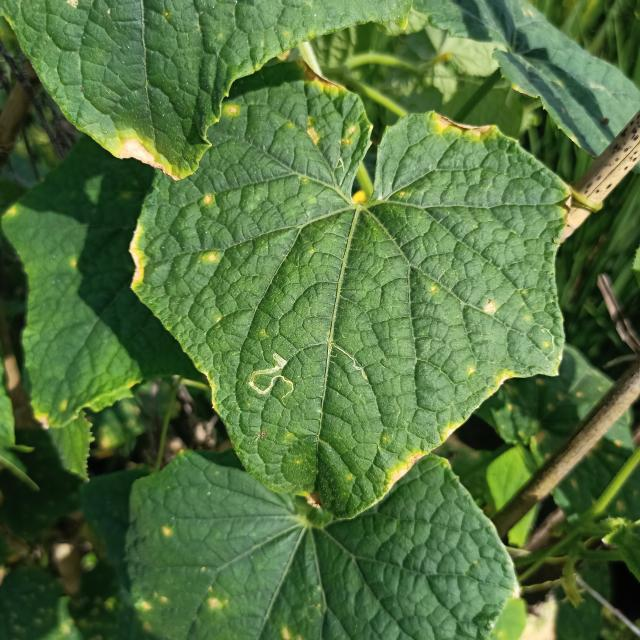disease_cucumber: (304, 78, 361, 153), (481, 297, 502, 318), (199, 248, 220, 267), (200, 192, 215, 208)
